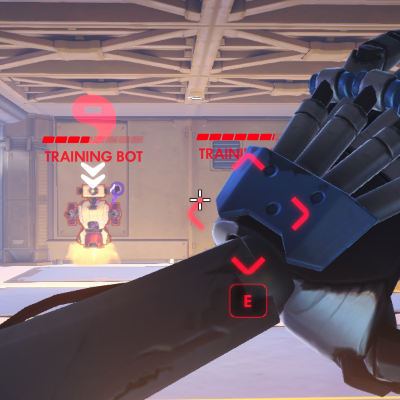hpbar: (41, 135, 143, 144), (196, 133, 282, 141)
